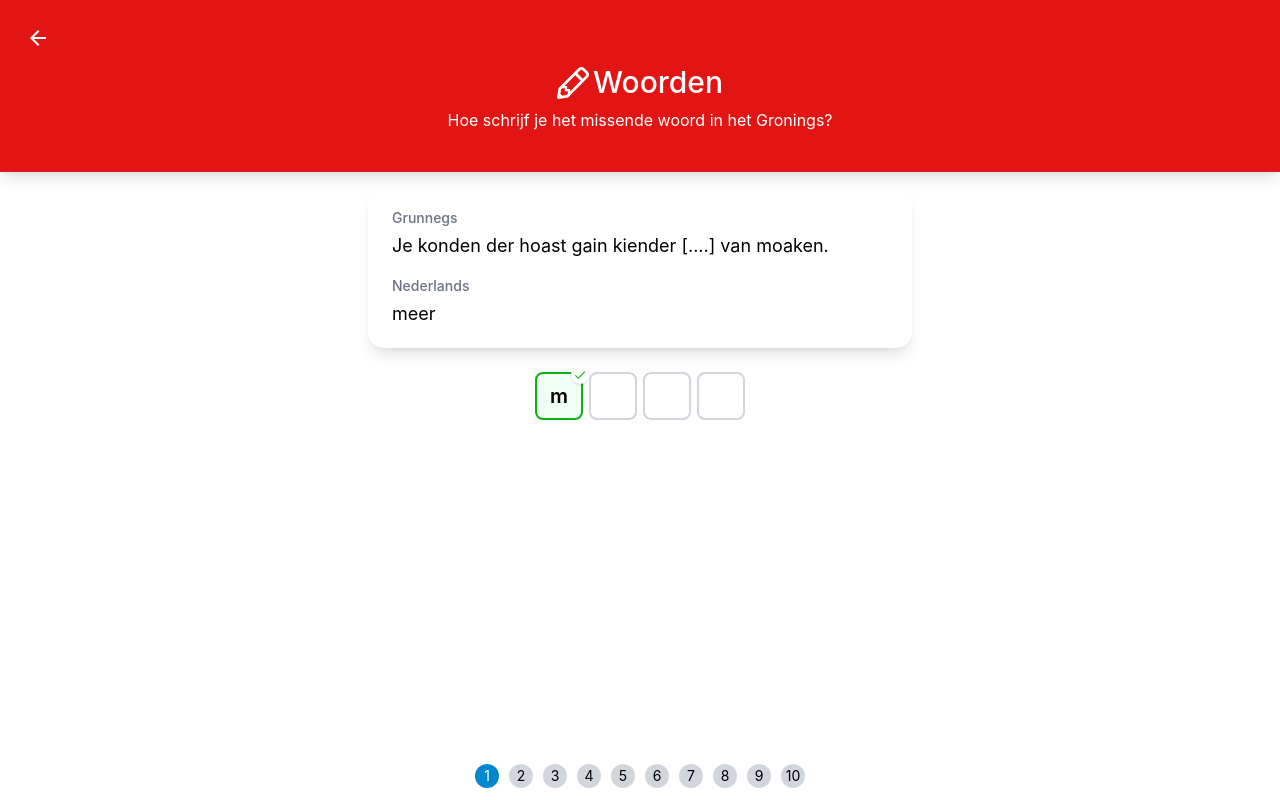
Test case: opening a level › shows "Versturen" only once every box has a letter
Type "e" into the field named "Letter 2 van 4".
click(613, 396); type("e")  # box 591,374 -> 635,418
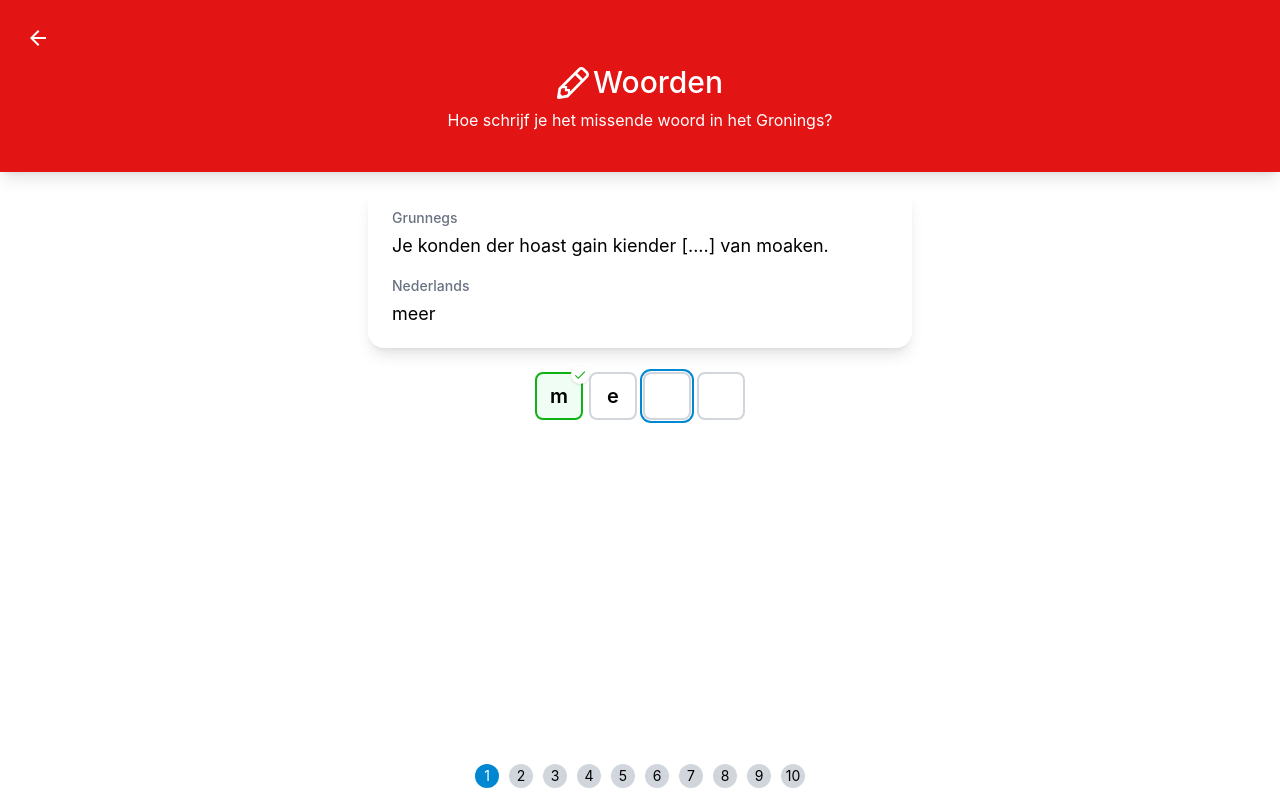
Type "e" into the field named "Letter 3 van 4".
click(667, 396); type("e")  # box 645,374 -> 689,418
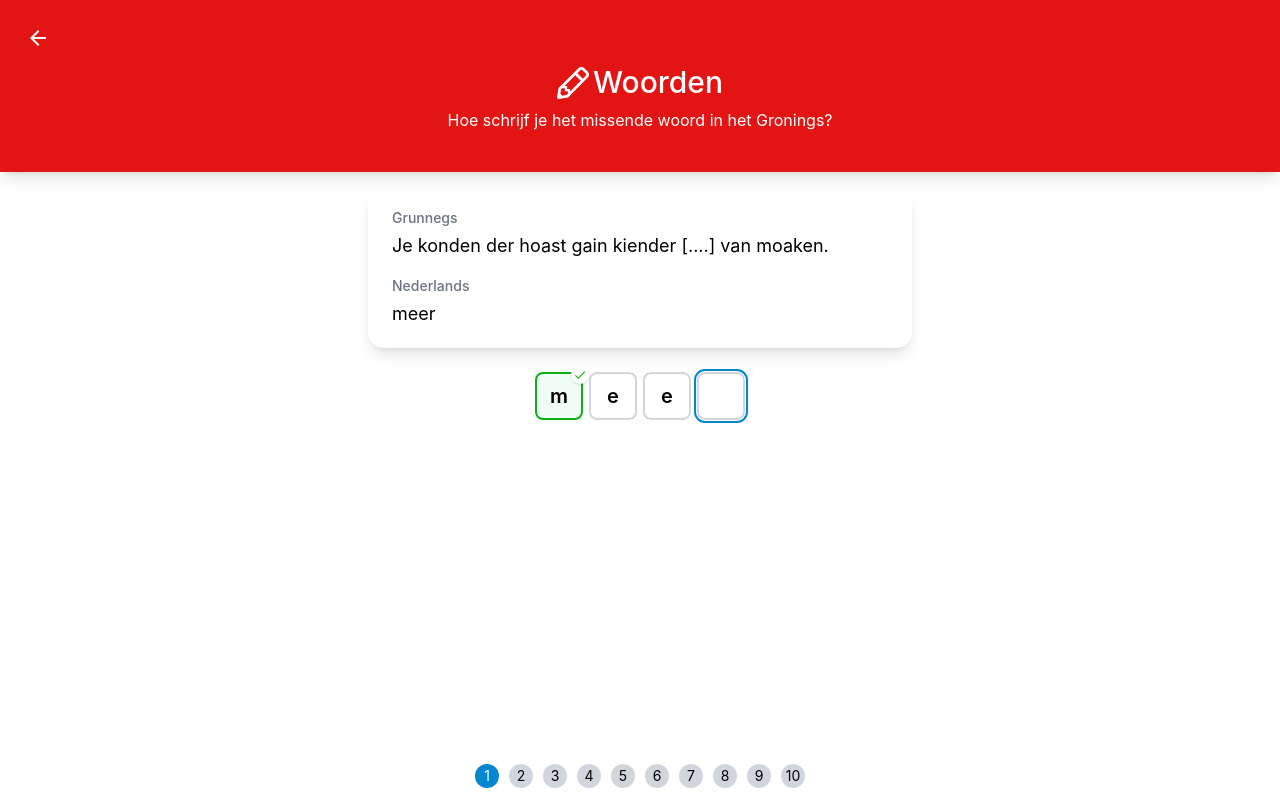
Type "r" into the field named "Letter 4 van 4".
click(721, 396); type("r")  # box 699,374 -> 743,418
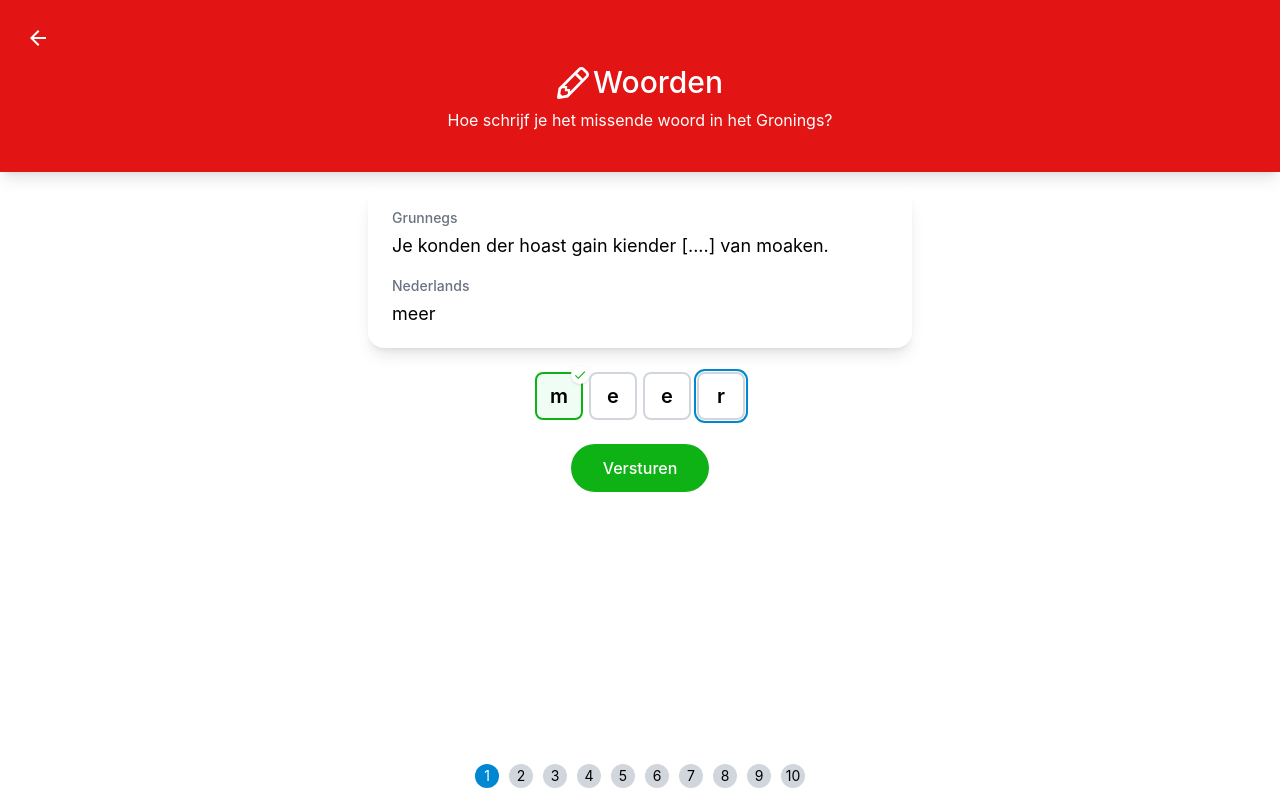
Now the button "Versturen" is shown, box 571,444 -> 709,492
